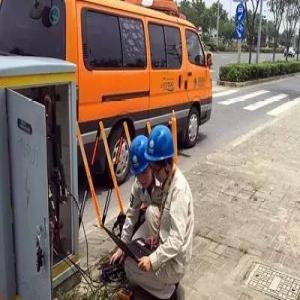blue: (145, 124, 176, 182), (127, 135, 153, 188)
